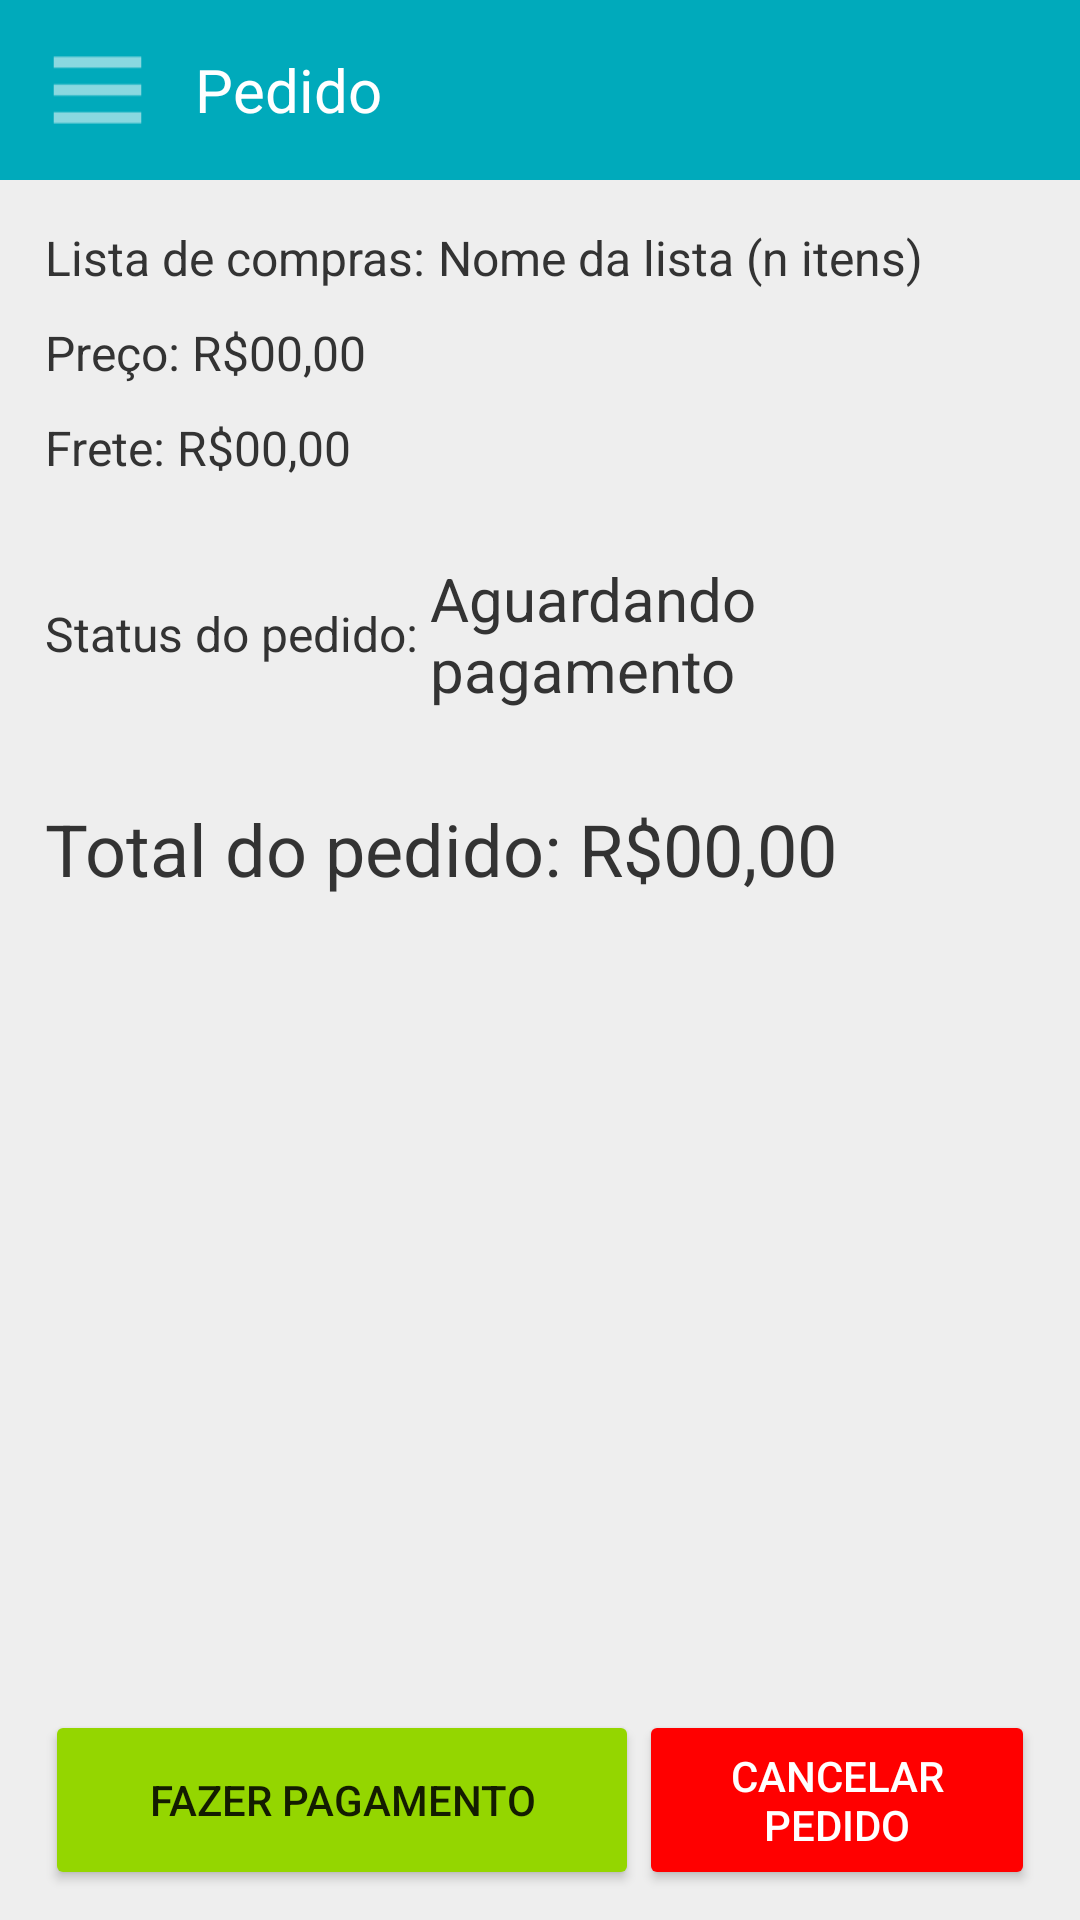

Where icons sit on this 1080x1920 app screen, as (x1, y1, x2, y2):
menu: (53, 56, 142, 124)
